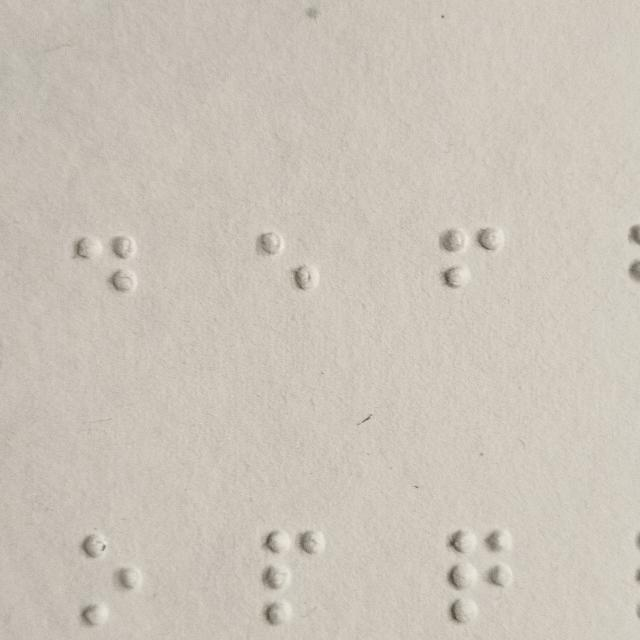letter_d: (71, 227, 140, 333)
letter_e: (257, 229, 321, 336)
letter_f: (438, 224, 507, 331)
letter_o: (77, 530, 146, 637)
letter_p: (262, 526, 331, 633)
letter_q: (445, 521, 514, 628)
